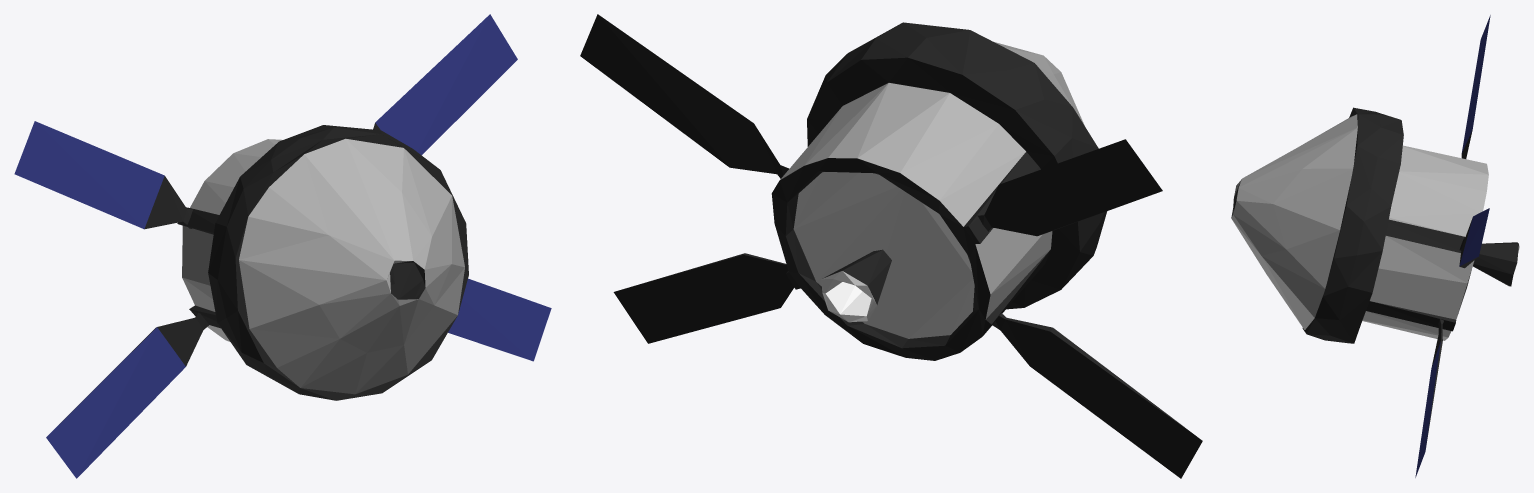
File: orion.glb
3 renders of one model, left to right at view 1: azimuth 30°, elevation 25°; view 2: azimuth 150°, elevation 25°; view 3: azimuth 270°, elevation 25°, orthographic. The views are drawn at different scales.
Parts seen in each view (by area): view 1: orion; view 2: orion; view 3: orion.
Boxes of the visible parts, <box> form: orion: <box>14,14,551,478</box>; orion: <box>580,14,1202,478</box>; orion: <box>1231,15,1519,477</box>.
Size of the model in its own units: 28.08 by 17.2 by 16.13.
Materials: 1 (1 with a texture image).
